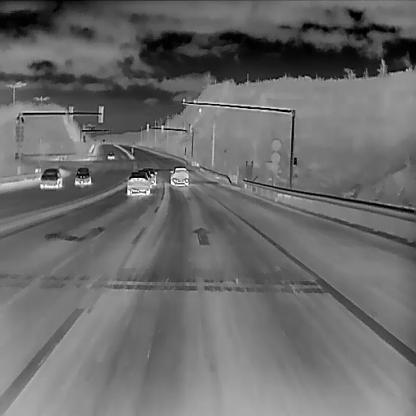car: (126, 171, 150, 194), (38, 166, 62, 189), (169, 164, 189, 186), (73, 166, 91, 185), (142, 167, 157, 185), (106, 151, 114, 159)
